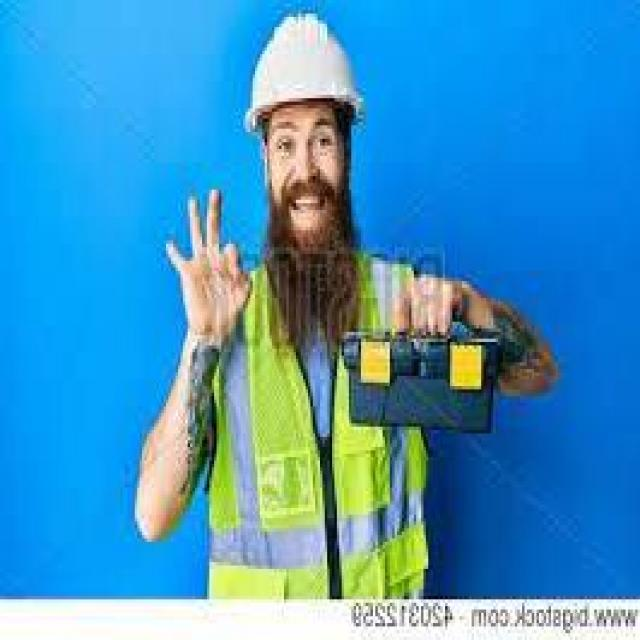Reflective-Jacket: (202, 244, 438, 603)
Safety-Helmet: (243, 7, 366, 132)
